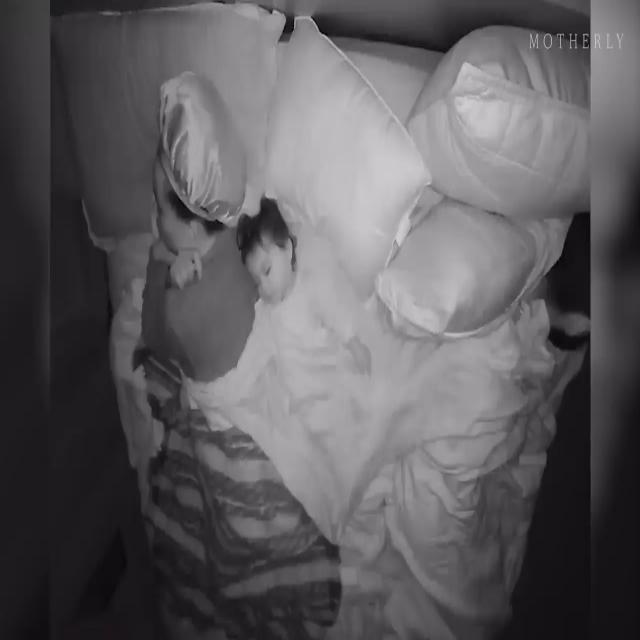baby: (222, 191, 375, 477)
